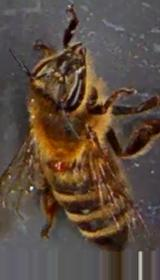varroa_mite: (46, 153, 70, 174)
